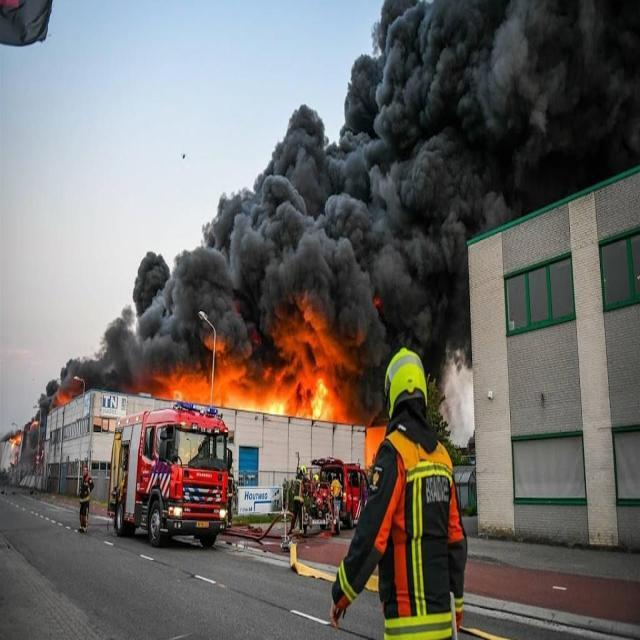Fire: (153, 335, 334, 422), (57, 392, 71, 406), (10, 434, 22, 450), (29, 420, 38, 427)
Smoke: (0, 0, 640, 466)
